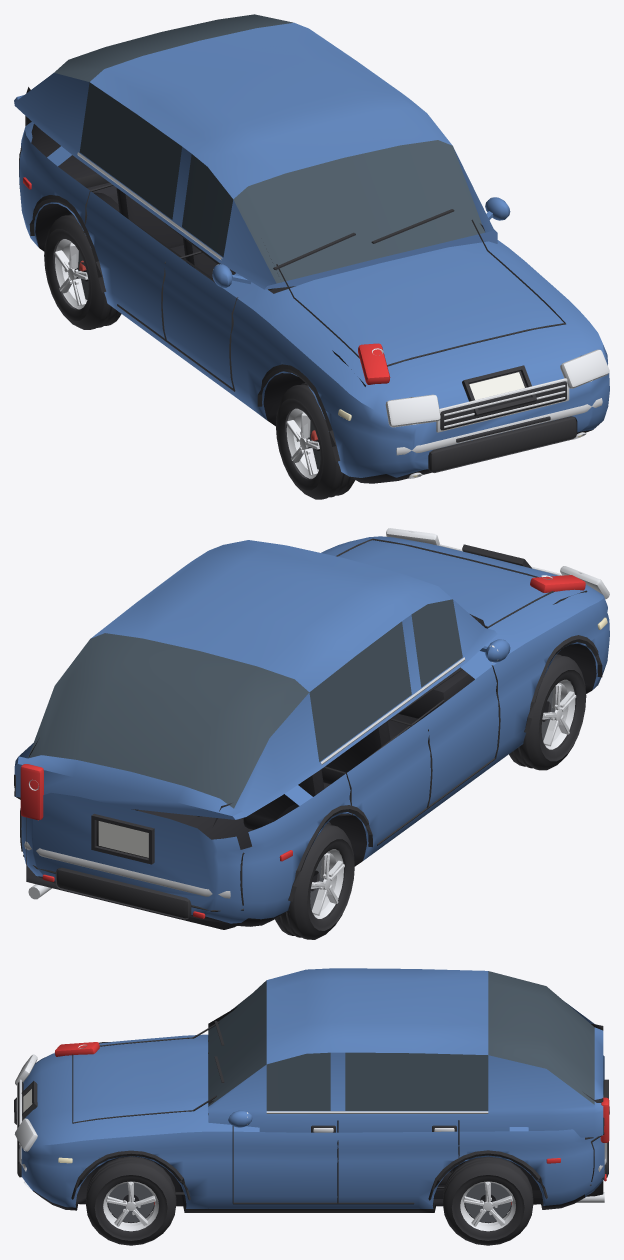
File: CarV2_Hatch.fbx
The picture shows the model from 3 angles, top to bottom: view 1: azimuth 30°, elevation 25°; view 2: azimuth 150°, elevation 25°; view 3: azimuth 270°, elevation 25°; orthographic projection. The views are drawn at different scales.
Visible parts, largest first — view 1: CarV2_Hatch; view 2: CarV2_Hatch; view 3: CarV2_Hatch.
Boxes of the visible parts, x1,y1,x2,y2 form: CarV2_Hatch: (14, 14, 609, 499); CarV2_Hatch: (14, 528, 609, 939); CarV2_Hatch: (14, 968, 609, 1245).
Bounding box in the file's own units: 1.78 × 1.51 × 4.09.
